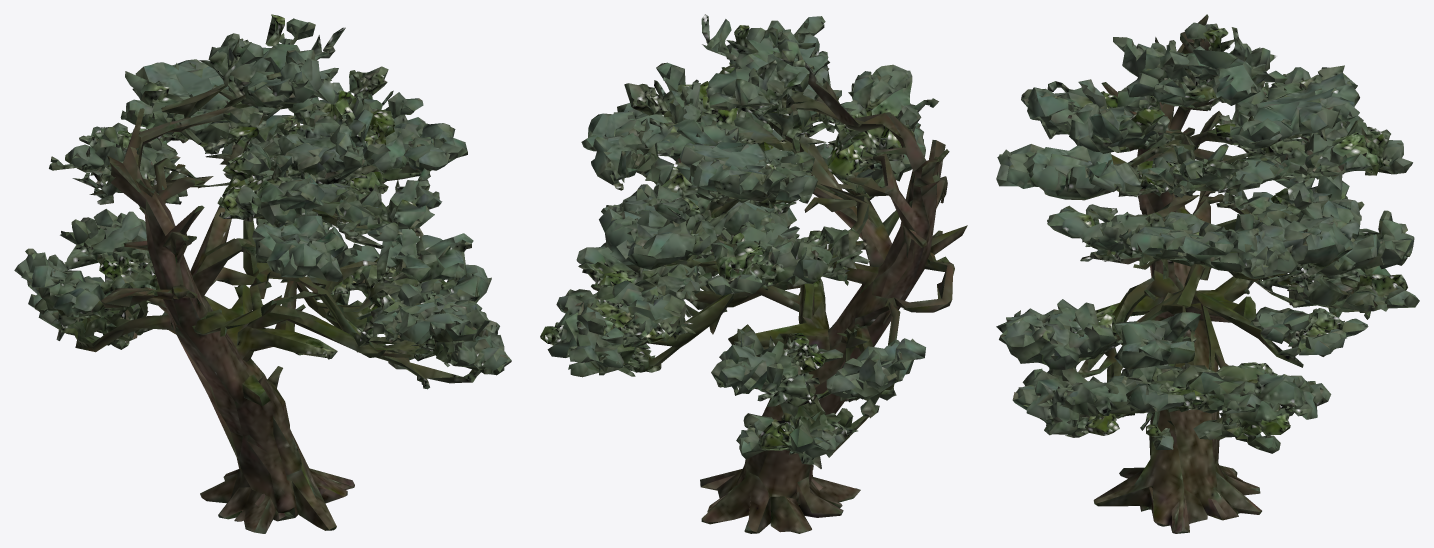
File: ENV-006.glb
3 renders of one model, left to right at view 1: azimuth 30°, elevation 25°; view 2: azimuth 150°, elevation 25°; view 3: azimuth 270°, elevation 25°, orthographic. The views are drawn at different scales.
Parts seen in each view (by area): view 1: world; view 2: world; view 3: world.
Part boxes in pixels (bbox=[...]): world: bbox=[14, 14, 511, 533]; world: bbox=[540, 14, 967, 533]; world: bbox=[996, 14, 1419, 533].
Size of the model in its own units: 5.28 by 6 by 4.83.
Materials: 1 (1 with a texture image).
